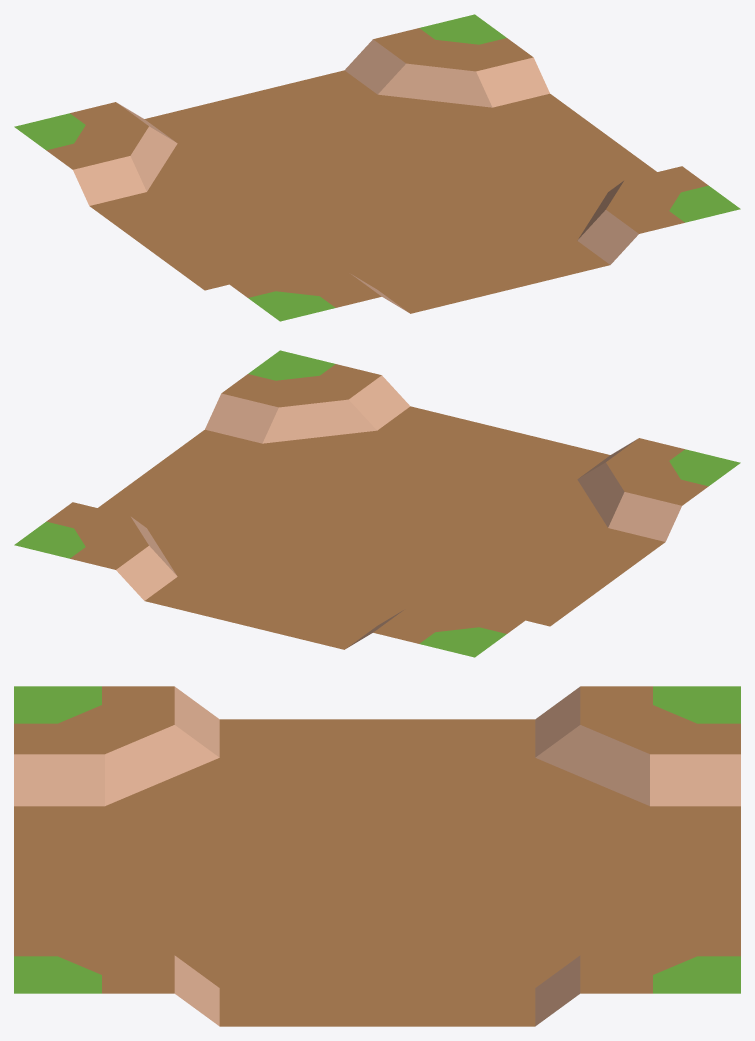
File: ground_pathCross.glb
The picture shows the model from 3 angles, top to bottom: view 1: azimuth 30°, elevation 25°; view 2: azimuth 150°, elevation 25°; view 3: azimuth 270°, elevation 25°; orthographic projection. The views are drawn at different scales.
Visible parts, largest first — view 1: ground_pathCross; view 2: ground_pathCross; view 3: ground_pathCross.
Part boxes in pixels (bbox=[...]): ground_pathCross: bbox=[14, 14, 740, 321]; ground_pathCross: bbox=[14, 350, 740, 657]; ground_pathCross: bbox=[14, 686, 740, 1026].
Bounding box in the file's own units: 1 × 0.05 × 1.
